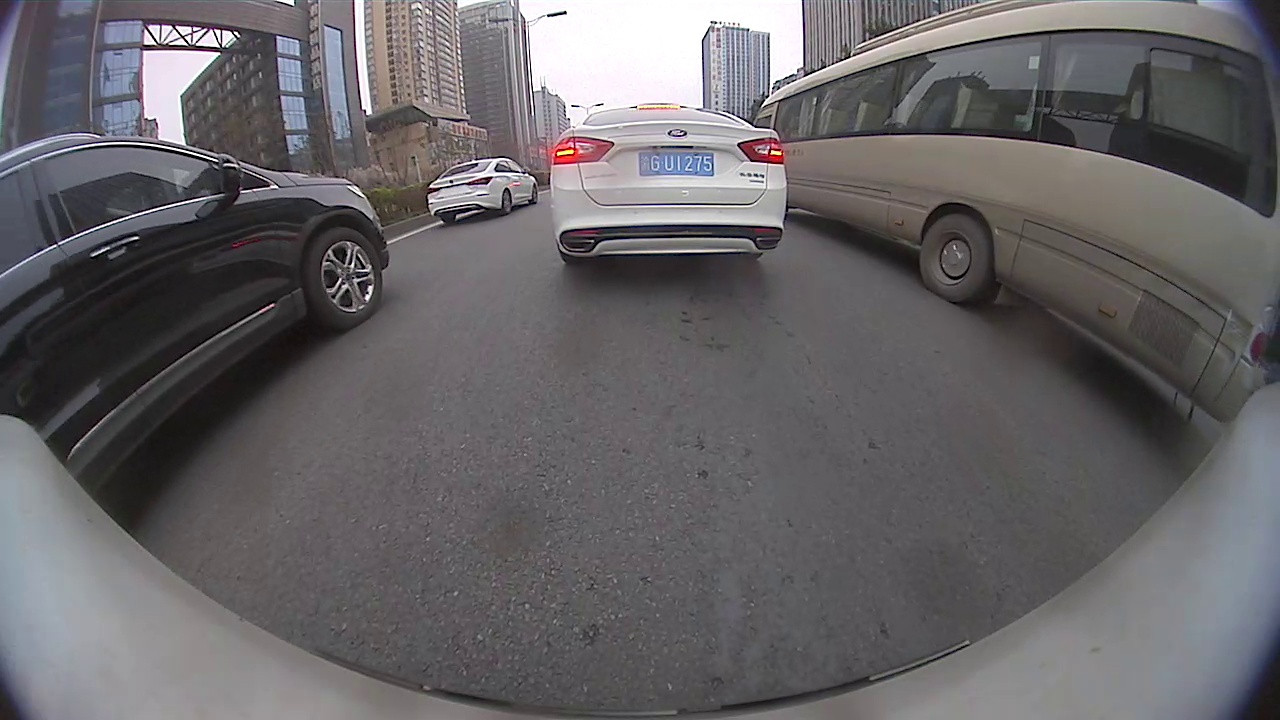bus: (747, 0, 1279, 425)
car: (0, 134, 390, 494), (548, 102, 788, 266), (424, 157, 540, 225)
front: (305, 226, 383, 325)
rear: (918, 214, 993, 306), (500, 189, 512, 214)
